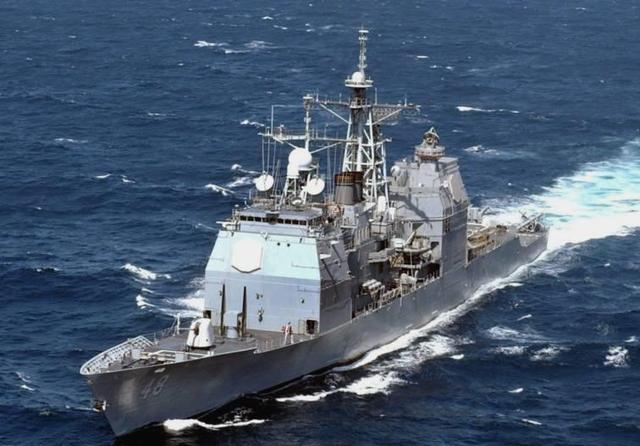warship: (79, 21, 548, 435)
